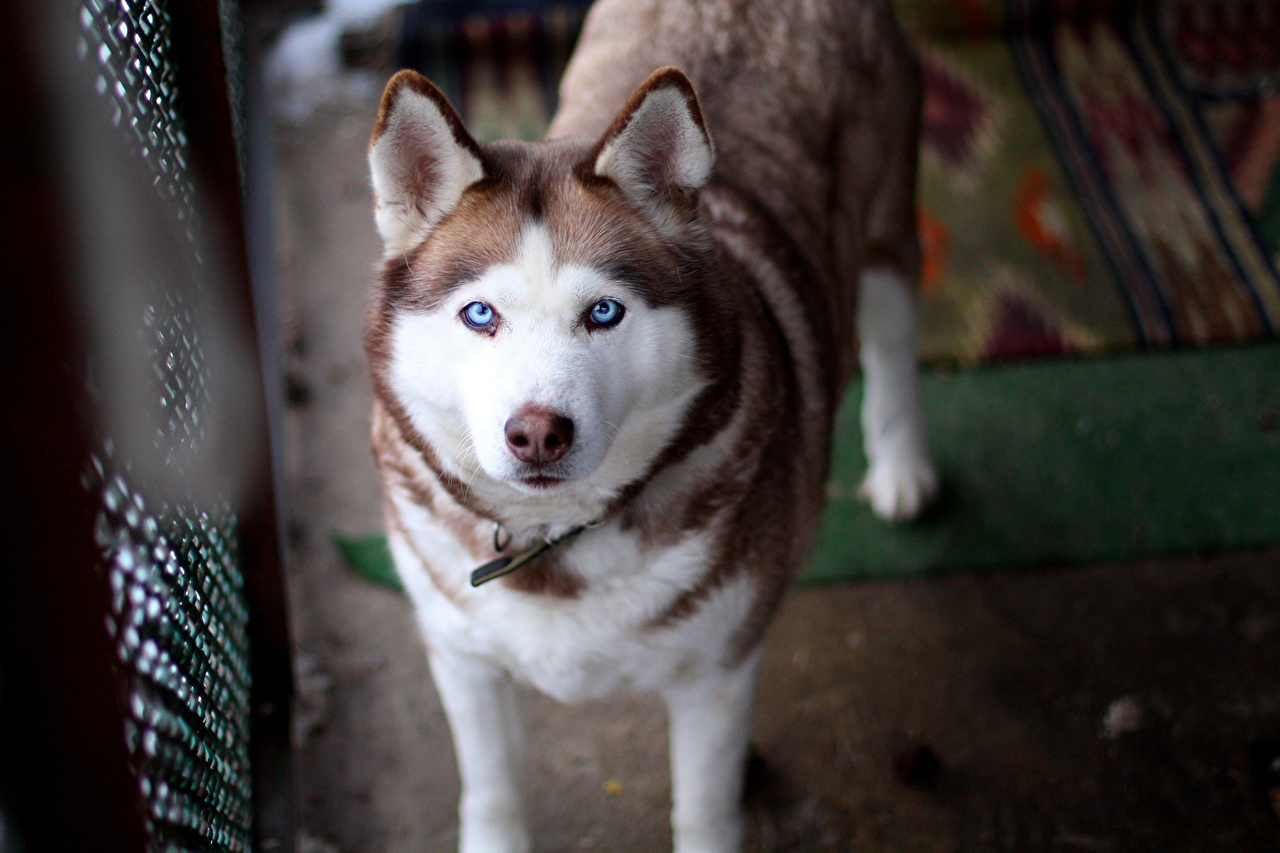husky: (333, 35, 792, 664)
